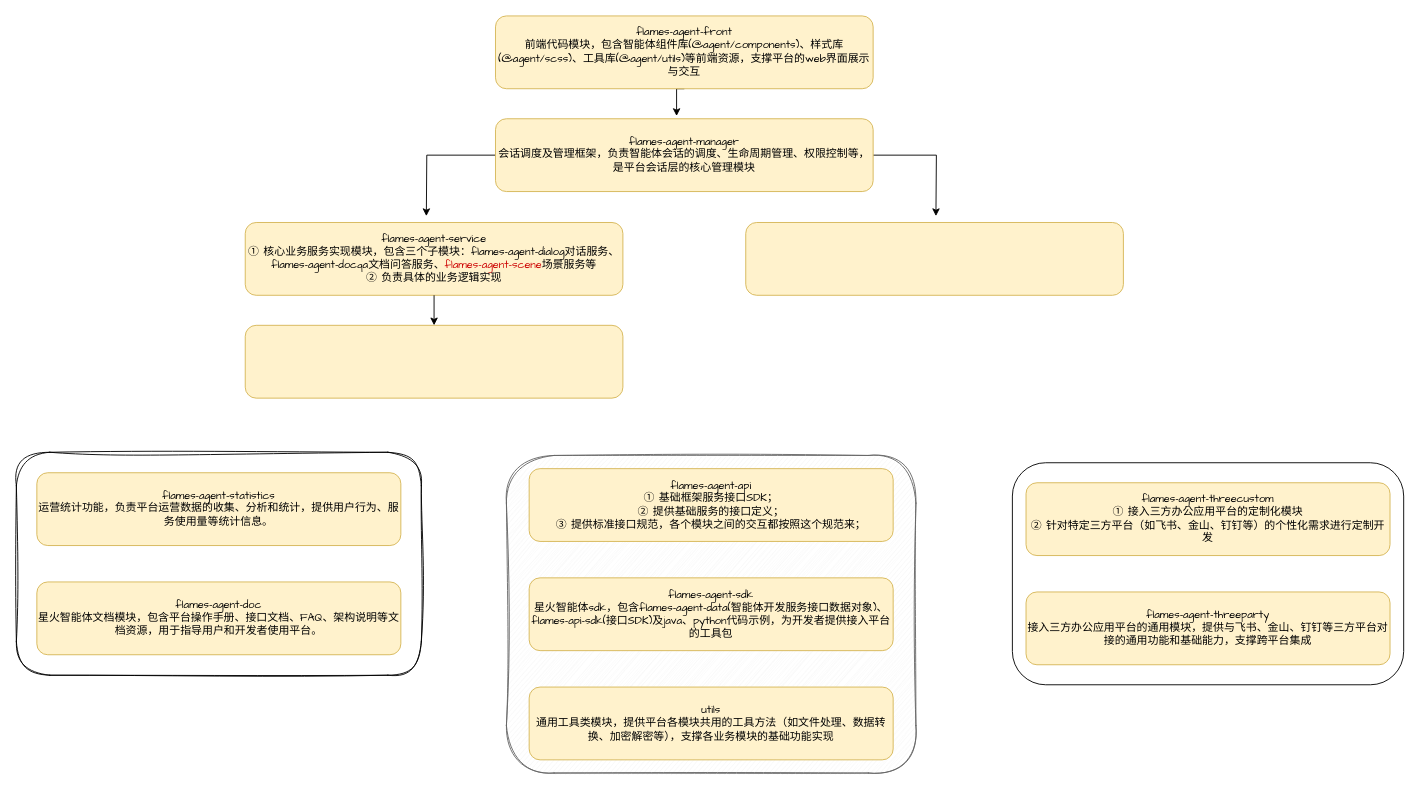
Image size: 1420x789. Some labels were removed from this diagram. The centre of each missing label's shape, as x and y in pixels:
flames-agent-exec 任务执行相关模块，可能负责任务流、脚本、组件等的执行调度与管理，包含执行所需的配置和辅助资源（如misc目录）: point (934, 258)
turing-astrolink 外部组件与链接服务模块，提供各类处理组件（如文本分割、文档处理、数据解析、大模型调用等），扩展平台的数据处理和能力集成能力。: point (433, 361)
